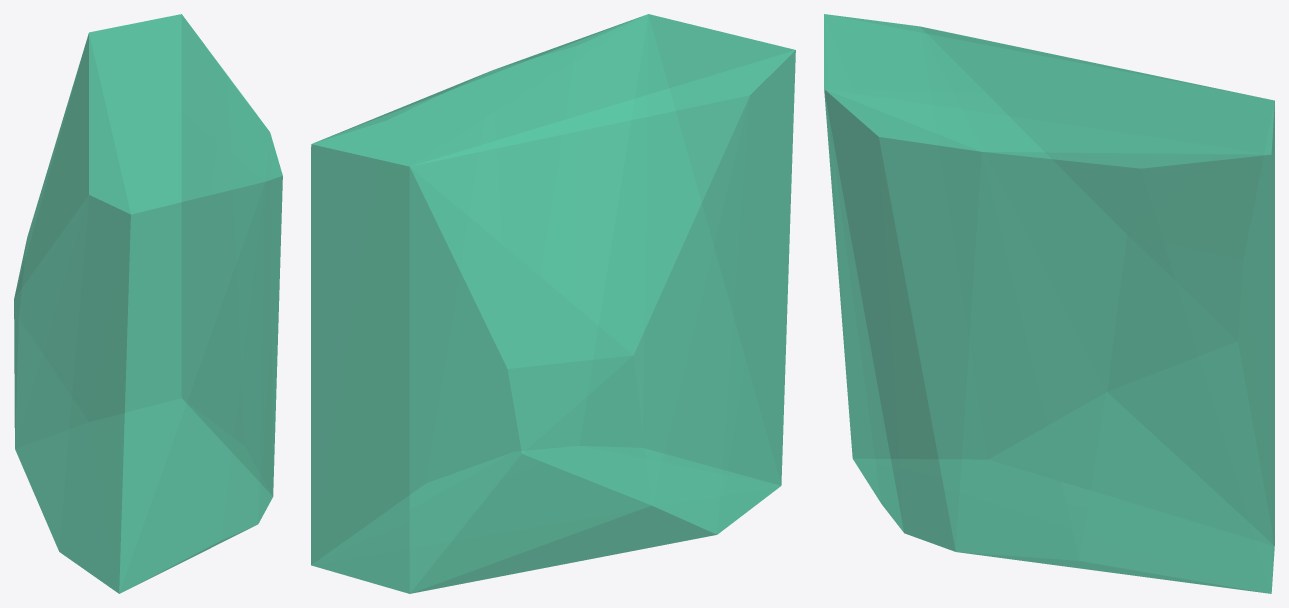
3 renders of one model, left to right at view 1: azimuth 30°, elevation 25°; view 2: azimuth 150°, elevation 25°; view 3: azimuth 270°, elevation 25°, orthographic. The views are drawn at different scales.
Parts seen in each view (by area): view 1: Shape_IndexedFaceSet.040_Shape_IndexedFaceSet.18263; view 2: Shape_IndexedFaceSet.040_Shape_IndexedFaceSet.18263; view 3: Shape_IndexedFaceSet.040_Shape_IndexedFaceSet.18263.
Part boxes in pixels (x1,y1,x2,y2): Shape_IndexedFaceSet.040_Shape_IndexedFaceSet.18263: (14,14,282,593); Shape_IndexedFaceSet.040_Shape_IndexedFaceSet.18263: (311,14,795,593); Shape_IndexedFaceSet.040_Shape_IndexedFaceSet.18263: (824,14,1274,593).
Size of the model in its own units: 0.1284 by 0.194 by 0.1778.
